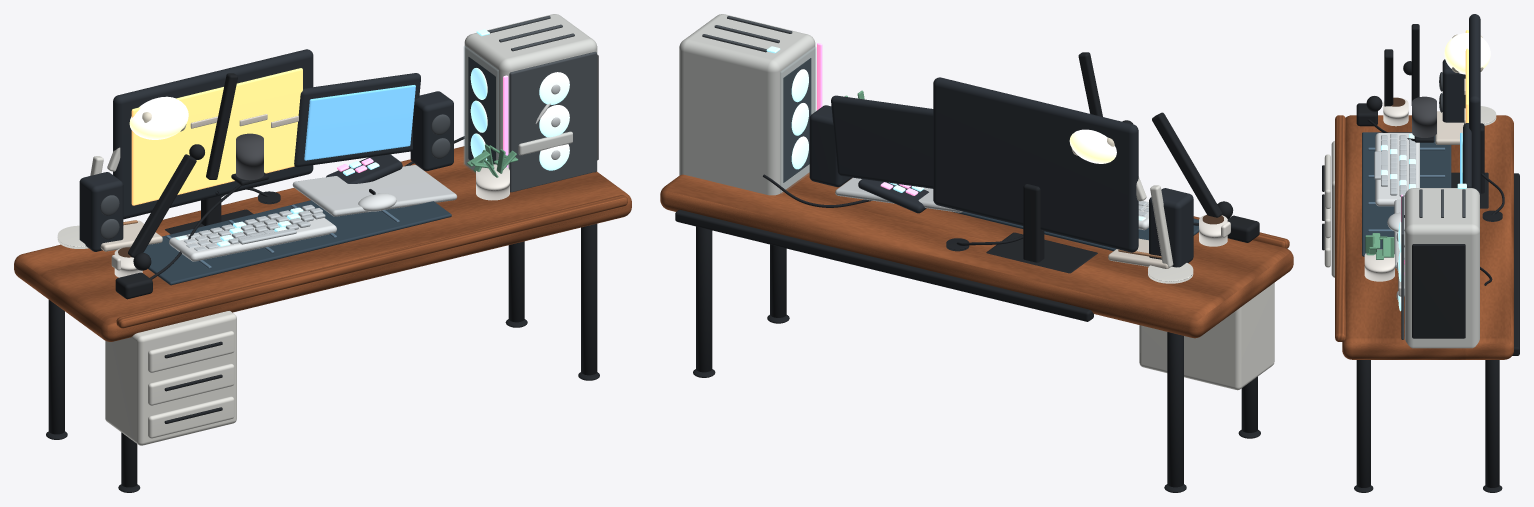
Rendered from p2s_premium_workstation_hero.glb.
3 views of the same model, side by side, from view 1: azimuth 30°, elevation 25°; view 2: azimuth 150°, elevation 25°; view 3: azimuth 270°, elevation 25° (orthographic). The views are drawn at different scales.
Visible parts, largest first — view 1: premium_workstation_oiled_oak_waterfall_top, premium_workstation_main_monitor_inner_screen, premium_workstation_left_lacquer_drawer_carcase, premium_workstation_pc_recessed_front_mesh, premium_workstation_wide_felt_desk_mat, premium_workstation_main_monitor_outer_shell, premium_workstation_side_display_blue_screen, premium_workstation_oak_front_soft_bullnose, premium_workstation_white_pc_case_body, premium_workstation_side_display_keyboard_deck, premium_workstation_side_display_shell, premium_workstation_left_compact_speaker_body (+22 smaller); view 2: premium_workstation_oiled_oak_waterfall_top, premium_workstation_main_monitor_outer_shell, premium_workstation_white_pc_case_body, premium_workstation_side_display_shell, premium_workstation_left_lacquer_drawer_carcase, premium_workstation_rear_black_cable_raceway, premium_workstation_pc_tempered_glass_side, premium_workstation_tapered_black_steel_leg_-1.32_-0.36, premium_workstation_left_compact_speaker_body, premium_workstation_tapered_black_steel_leg_1.32_-0.36, premium_workstation_right_compact_speaker_body, premium_workstation_monitor_heavy_foot (+14 smaller); view 3: premium_workstation_oiled_oak_waterfall_top, premium_workstation_white_pc_case_body, premium_workstation_pc_rear_panel_shadow_line, premium_workstation_wide_felt_desk_mat, premium_workstation_oak_front_soft_bullnose, premium_workstation_main_monitor_outer_shell, premium_workstation_tapered_black_steel_leg_1.32_-0.36, premium_workstation_tapered_black_steel_leg_1.32_0.36, premium_workstation_low_profile_keyboard_body, premium_workstation_left_compact_speaker_body, premium_workstation_rear_black_cable_raceway, premium_workstation_lamp_warm_diffuser (+16 smaller).
Part boxes in pixels (bbox=[...]): premium_workstation_oiled_oak_waterfall_top: bbox=[14, 146, 631, 341]; premium_workstation_main_monitor_inner_screen: bbox=[131, 68, 302, 205]; premium_workstation_left_lacquer_drawer_carcase: bbox=[105, 311, 236, 445]; premium_workstation_pc_recessed_front_mesh: bbox=[509, 51, 596, 192]; premium_workstation_wide_felt_desk_mat: bbox=[143, 200, 451, 285]; premium_workstation_main_monitor_outer_shell: bbox=[113, 49, 313, 219]; premium_workstation_side_display_blue_screen: bbox=[304, 85, 415, 160]; premium_workstation_oak_front_soft_bullnose: bbox=[116, 195, 627, 328]; premium_workstation_white_pc_case_body: bbox=[464, 14, 597, 171]; premium_workstation_side_display_keyboard_deck: bbox=[292, 165, 457, 216]; premium_workstation_side_display_shell: bbox=[294, 73, 420, 167]; premium_workstation_left_compact_speaker_body: bbox=[79, 172, 123, 251]; premium_workstation_oiled_oak_waterfall_top: bbox=[660, 172, 1293, 338]; premium_workstation_main_monitor_outer_shell: bbox=[933, 77, 1138, 252]; premium_workstation_white_pc_case_body: bbox=[679, 14, 815, 195]; premium_workstation_side_display_shell: bbox=[831, 95, 933, 188]; premium_workstation_left_lacquer_drawer_carcase: bbox=[1139, 283, 1274, 390]; premium_workstation_rear_black_cable_raceway: bbox=[675, 210, 1093, 321]; premium_workstation_pc_tempered_glass_side: bbox=[780, 47, 815, 193]; premium_workstation_tapered_black_steel_leg_-1.32_-0.36: bbox=[1167, 332, 1183, 487]; premium_workstation_left_compact_speaker_body: bbox=[1149, 188, 1193, 267]; premium_workstation_tapered_black_steel_leg_1.32_-0.36: bbox=[696, 226, 712, 372]; premium_workstation_right_compact_speaker_body: bbox=[809, 105, 851, 187]; premium_workstation_monitor_heavy_foot: bbox=[986, 232, 1097, 273]; premium_workstation_oiled_oak_waterfall_top: bbox=[1342, 115, 1513, 359]; premium_workstation_white_pc_case_body: bbox=[1405, 188, 1479, 348]; premium_workstation_pc_rear_panel_shadow_line: bbox=[1412, 244, 1465, 338]; premium_workstation_wide_felt_desk_mat: bbox=[1362, 132, 1451, 256]; premium_workstation_oak_front_soft_bullnose: bbox=[1335, 115, 1345, 341]; premium_workstation_main_monitor_outer_shell: bbox=[1469, 14, 1480, 202]; premium_workstation_tapered_black_steel_leg_1.32_-0.36: bbox=[1485, 360, 1499, 487]; premium_workstation_tapered_black_steel_leg_1.32_0.36: bbox=[1356, 360, 1370, 487]; premium_workstation_low_profile_keyboard_body: bbox=[1375, 133, 1419, 206]; premium_workstation_left_compact_speaker_body: bbox=[1442, 59, 1465, 122]; premium_workstation_rear_black_cable_raceway: bbox=[1512, 173, 1519, 355]; premium_workstation_lamp_warm_diffuser: bbox=[1444, 33, 1490, 74].
Size of the model in its own units: 3.05 by 1.99 by 1.11.
Materials: 29 (1 with a texture image).
